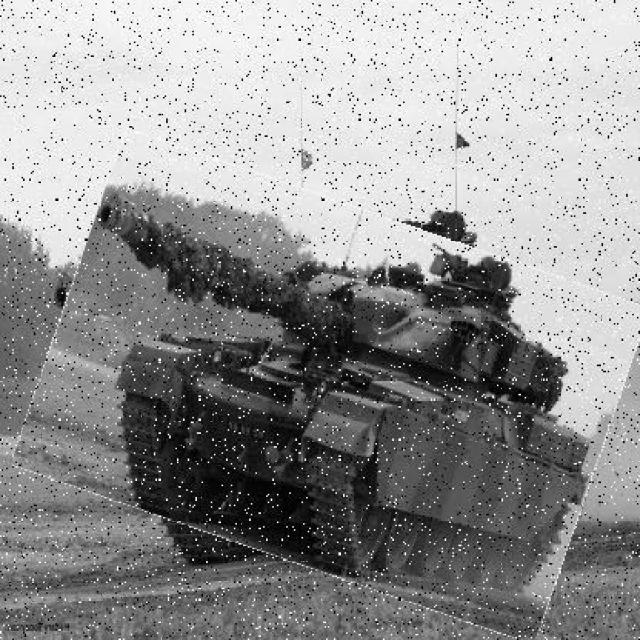Tank: (33, 169, 629, 604)
